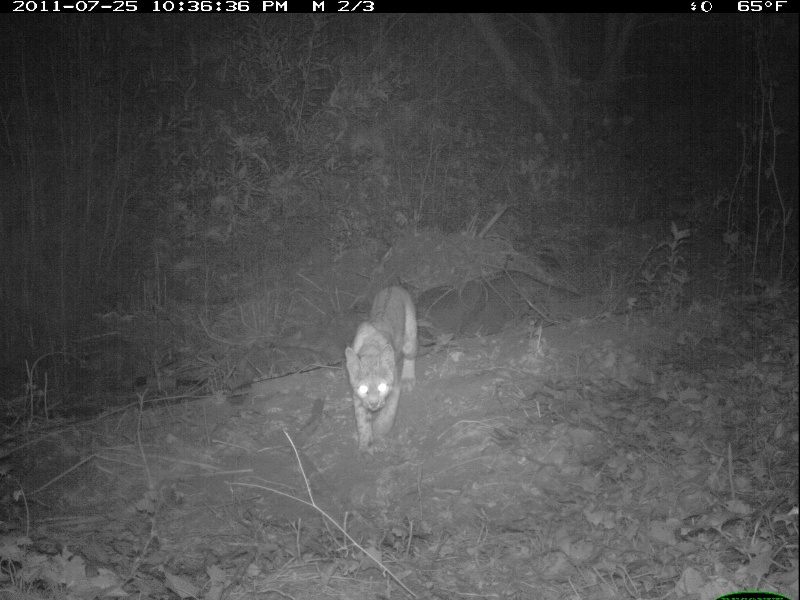cat: (346, 276, 422, 457)
